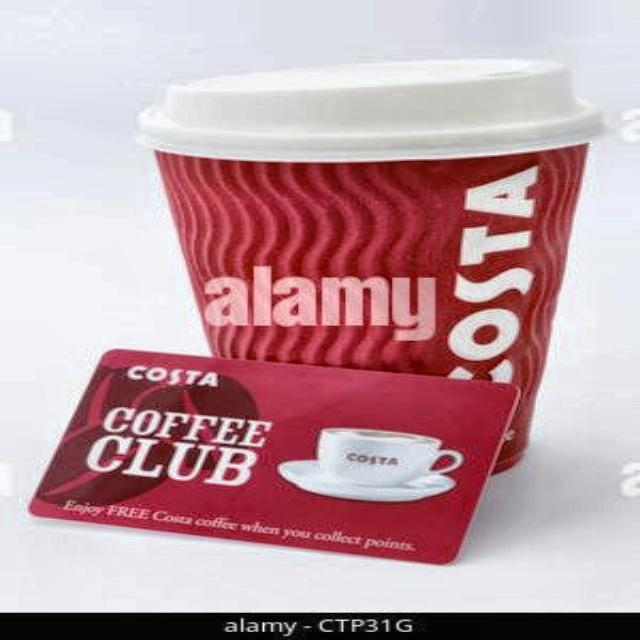paper_cup: (124, 37, 640, 501)
